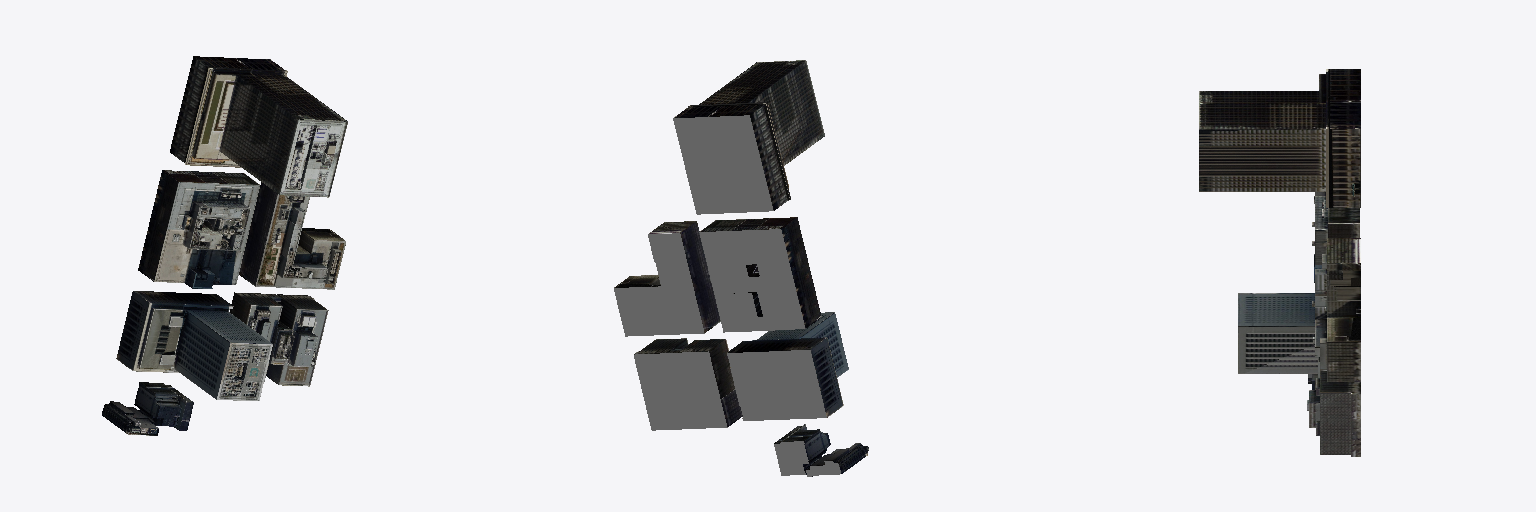
3 views of the same model, side by side, from view 1: azimuth 30°, elevation 25°; view 2: azimuth 150°, elevation 25°; view 3: azimuth 270°, elevation 25° (orthographic).
Size of the model in its own units: 247 by 365 by 151.
7 materials, 7 textured.